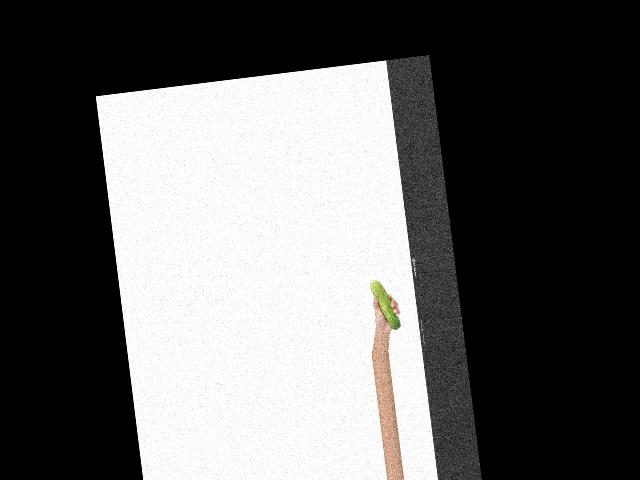cucumber: (369, 278, 401, 332)
